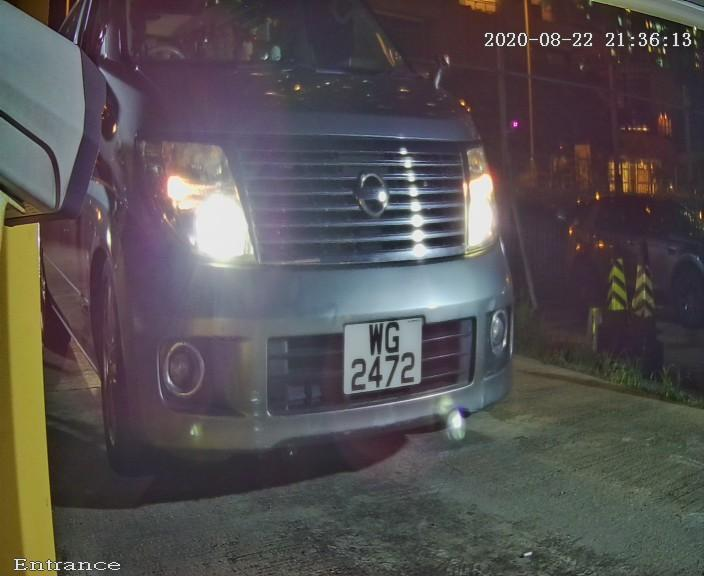Car: (19, 8, 541, 515)
License Plate: (331, 307, 431, 407)
